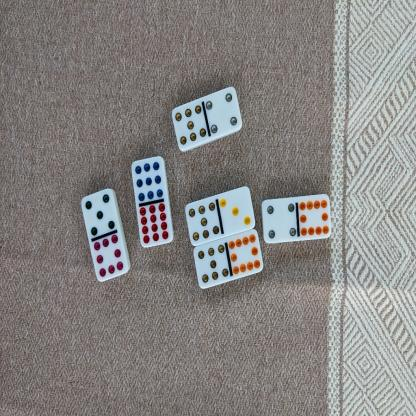pip-10: (228, 228, 263, 276), (297, 192, 330, 238)
pip-12: (138, 201, 173, 246)
pip-3: (217, 185, 255, 232)
pip-4: (204, 85, 242, 135), (262, 198, 298, 242)
pip-5: (80, 188, 115, 235)
pip-7: (193, 243, 229, 289), (171, 104, 206, 151), (185, 201, 219, 244)
pip-8: (93, 234, 130, 281)
pip-9: (131, 156, 164, 203)
